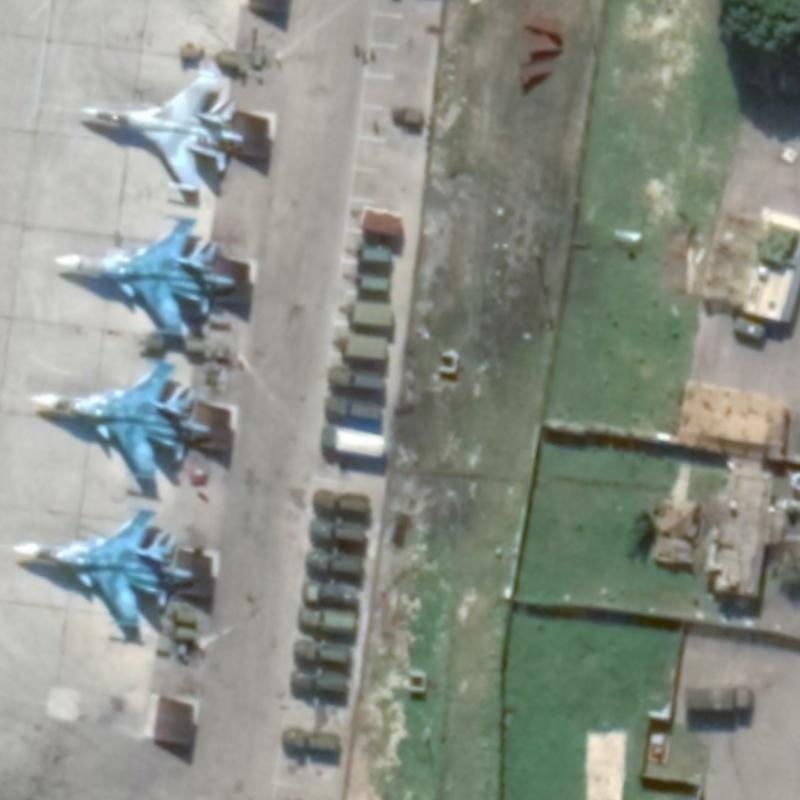A1: (80, 63, 245, 195)
A19: (26, 353, 214, 483), (8, 501, 196, 630), (51, 209, 237, 337)
